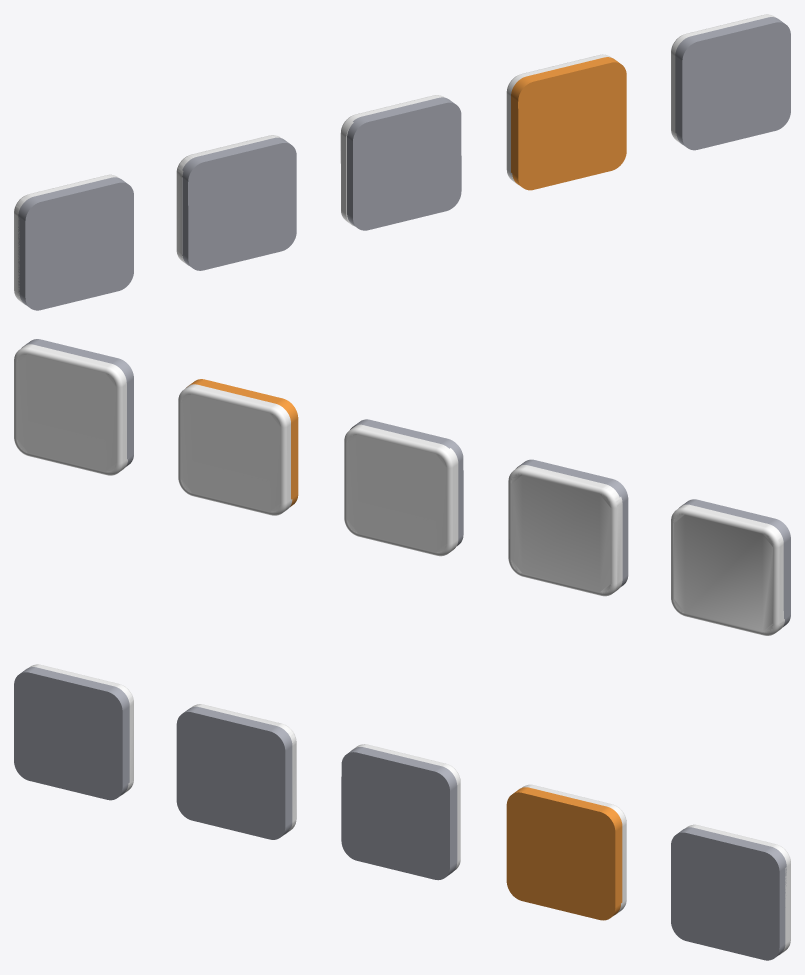
The model's file is orange.glb.
3 renders of one model, top to bottom at view 1: azimuth 30°, elevation 25°; view 2: azimuth 150°, elevation 25°; view 3: azimuth 330°, elevation 25°, orthographic.
Parts seen in each view (by area): view 1: line_1; view 2: line_1; view 3: line_1.
Boxes of the visible parts, bbox=[...] form: line_1: bbox=[14, 14, 790, 310]; line_1: bbox=[14, 339, 790, 635]; line_1: bbox=[14, 664, 790, 960].
Bounding box in the file's own units: 0.1481 × 0.0201 × 0.00442.
6 materials, 1 textured.
